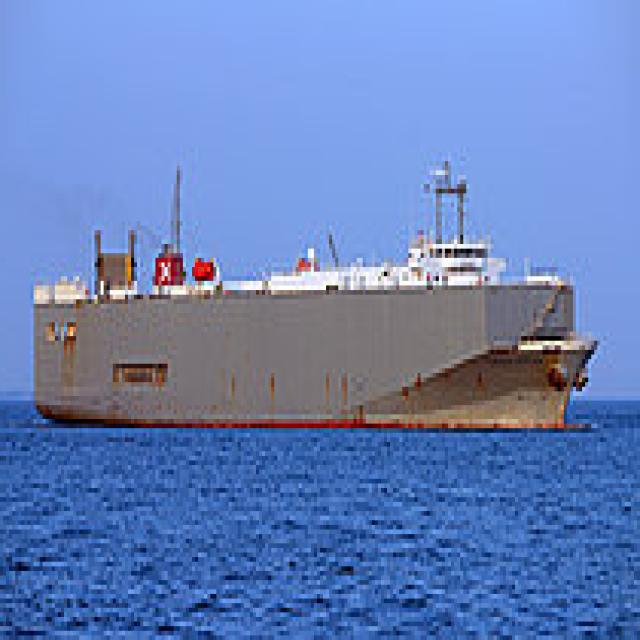Carrier: (31, 216, 604, 433)
